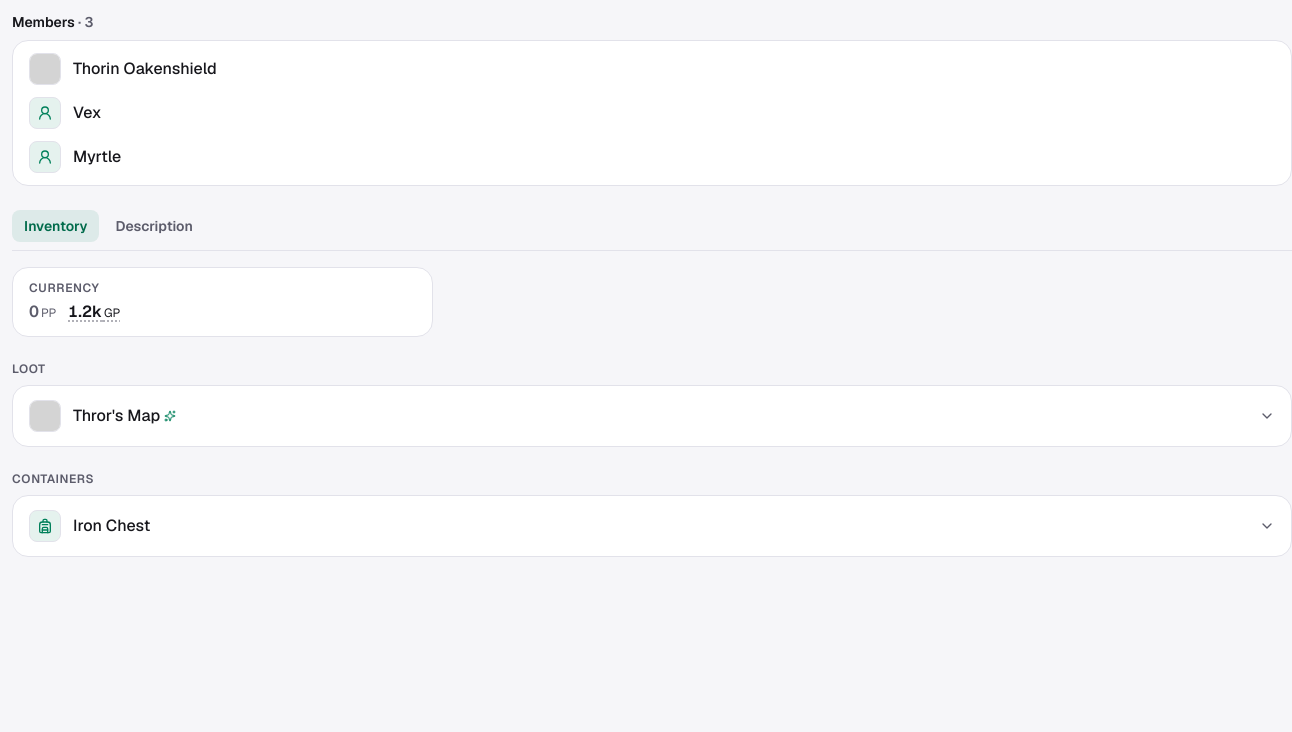
Test: components/party-sheet › PartySheet › shows its stash, a container opening to what it holds, with nothing to use, star, spend, end or roll, wherever it is
Check: the panel named "Inventory" shows "1.2k GP", box [12, 267, 1291, 557]
Check: the text "Thror's Map" is shown, box [73, 404, 160, 428]
Click the heading "Iron Chest": (45, 526) [19, 502, 1285, 550]
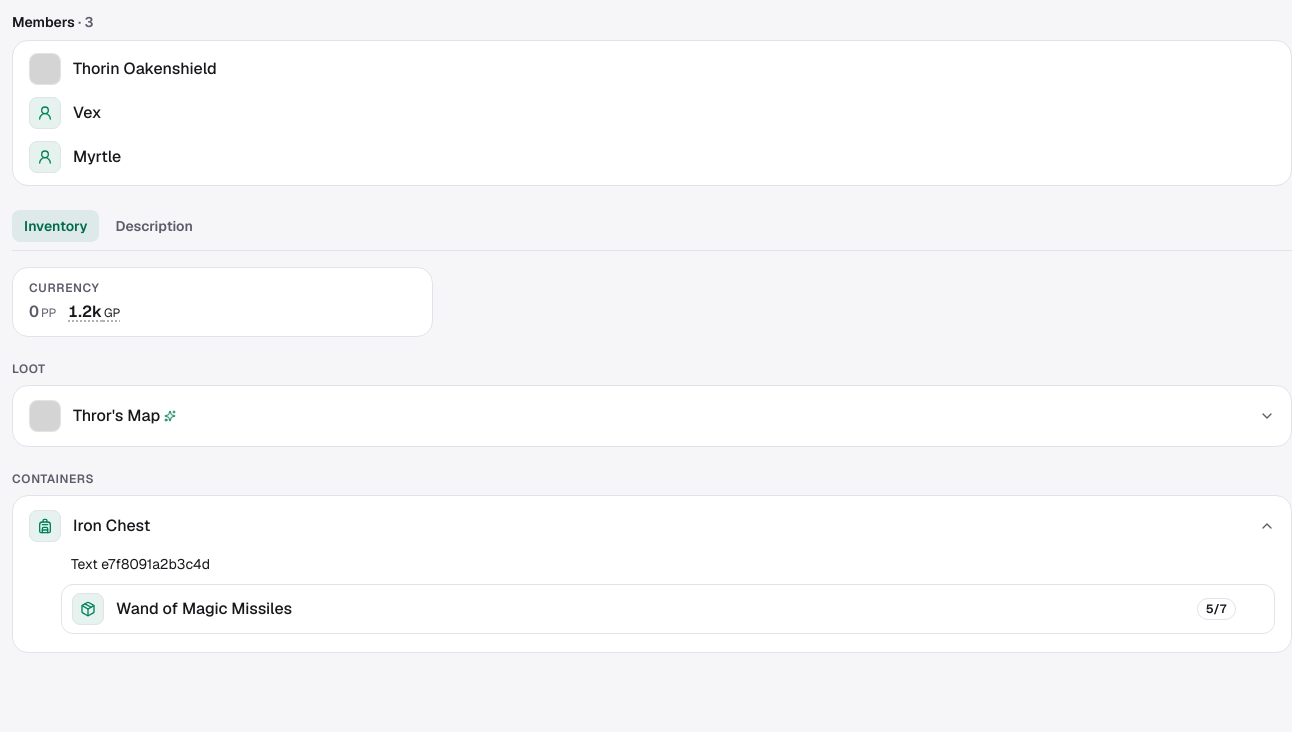
Check: the list named "In the Iron Chest" shows "Wand of Magic Missiles", box [116, 598, 292, 619]
Check: the list named "In the Iron Chest" shows "5/7", box [61, 584, 1275, 634]
Note: Its enchantment is named, never ended from here.
Click the heading "Thror's Map": (45, 416) [19, 392, 1285, 440]
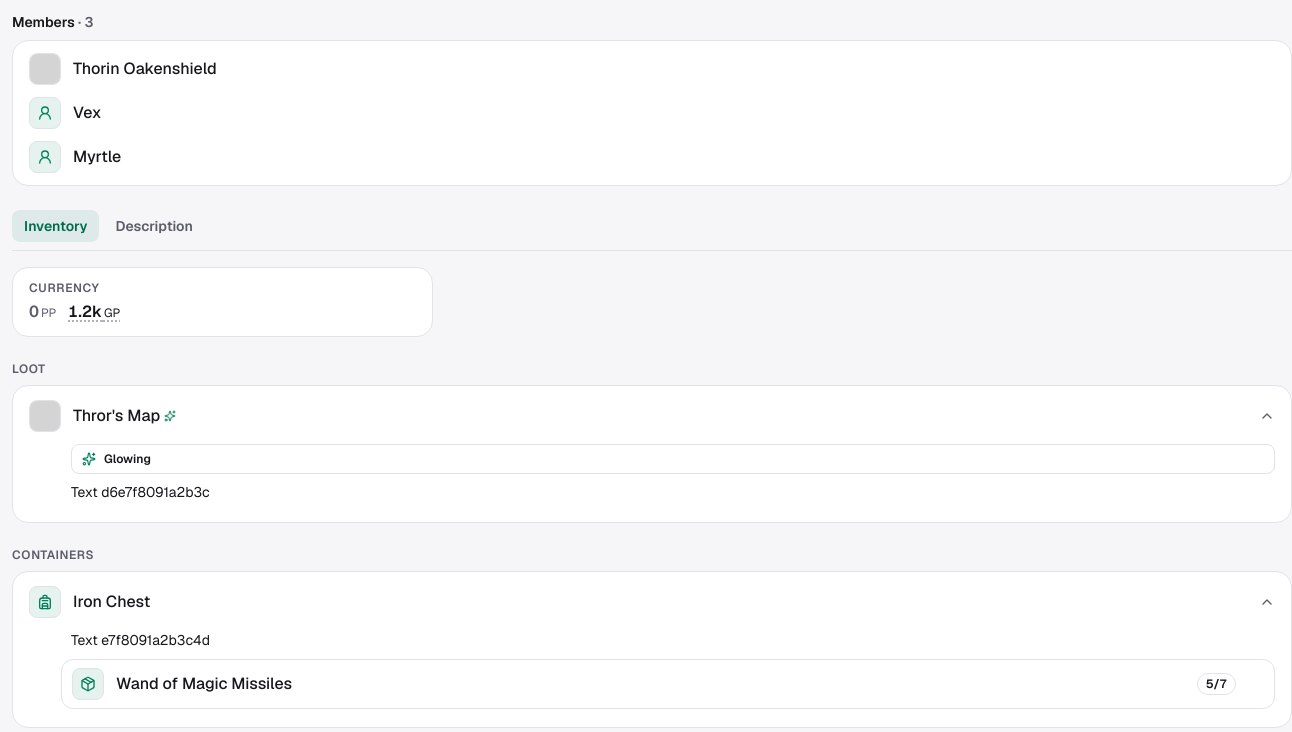
Check: the list named "Enchantments" reads "Glowing", box [104, 451, 151, 467]
Note: Its description's links are only their text: nothing rolls, nor opens any panel.
Click the tab "Description": (154, 226) [103, 210, 205, 242]
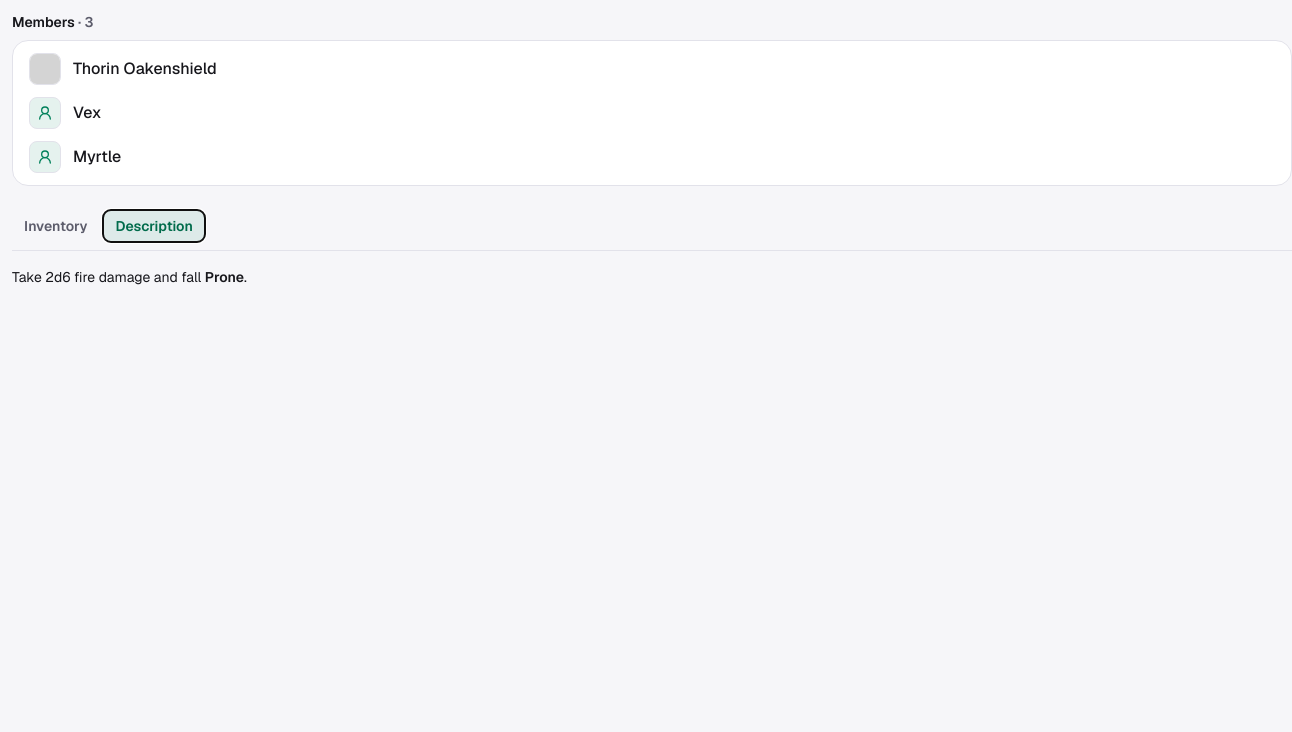
Check: the text "Take 2d6 fire damage and fall Prone." is shown, box [12, 268, 247, 286]
Check: the button is gone
